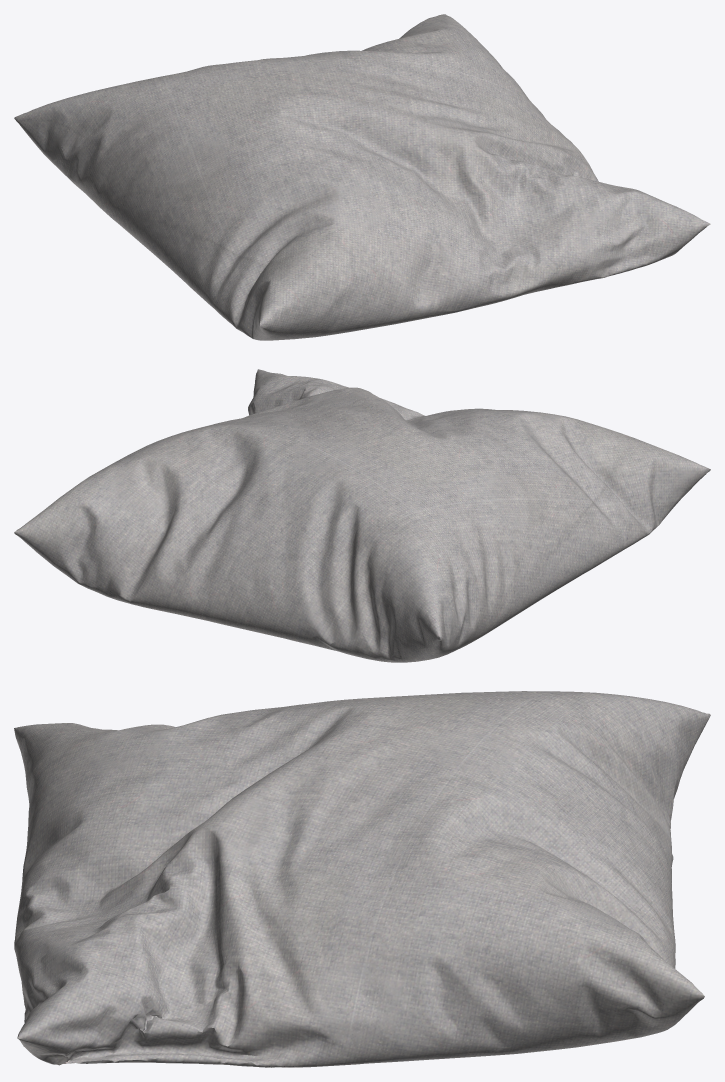
File: pillow.glb
3 views of the same model, one above another, from view 1: azimuth 30°, elevation 25°; view 2: azimuth 150°, elevation 25°; view 3: azimuth 270°, elevation 25° (orthographic). The views are drawn at different scales.
Visible parts, largest first — view 1: Object_2; view 2: Object_2; view 3: Object_2.
Boxes of the visible parts, x1=… form: Object_2: x1=14, y1=14, x2=710, y2=340; Object_2: x1=14, y1=369, x2=710, y2=662; Object_2: x1=14, y1=691, x2=710, y2=1067.
Size of the model in its own units: 869 by 243 by 860.
Materials: 1 (1 with a texture image).
